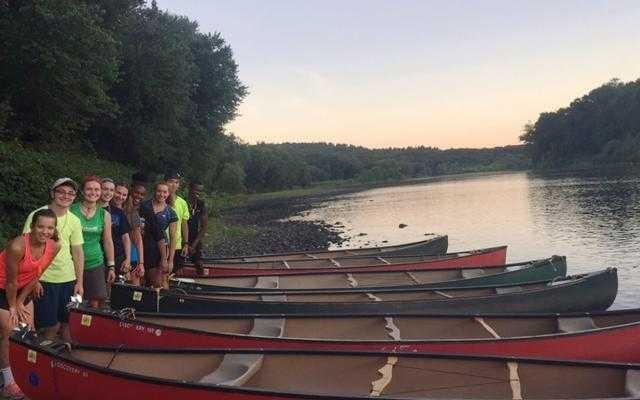kayak: (25, 260, 638, 376), (177, 236, 495, 280)
